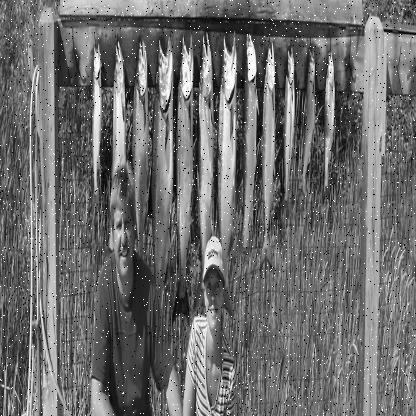fish: (148, 26, 174, 344), (192, 32, 218, 312), (214, 29, 237, 316), (172, 28, 194, 326), (106, 37, 130, 257), (237, 32, 259, 264), (132, 32, 150, 284), (260, 40, 276, 272), (298, 44, 315, 200), (281, 47, 295, 215), (322, 49, 336, 203), (91, 36, 103, 206)
